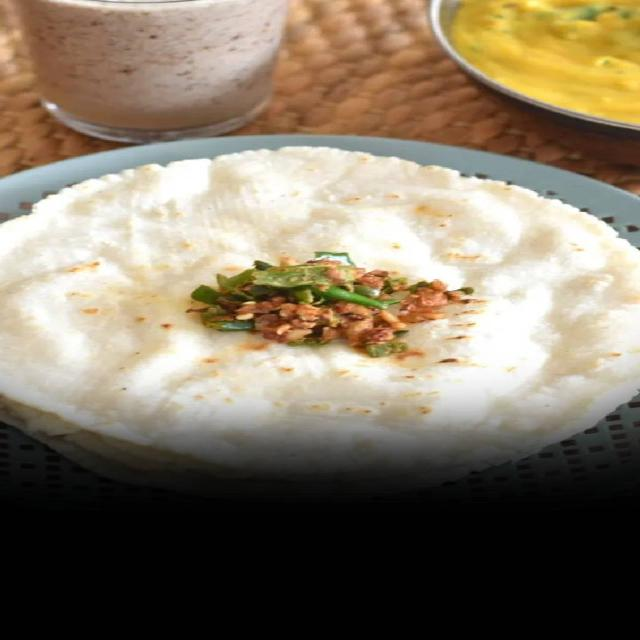RICE BHAKRI: (0, 150, 637, 488)
